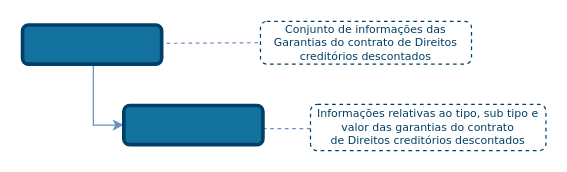
This 567x172 diagram has some shape labels left out. The shapes that lost their labels are listed below. From the top down, each one's centre as x and y in pixels, then its label:
[91,44]: Data
[192,124]: Warranties
